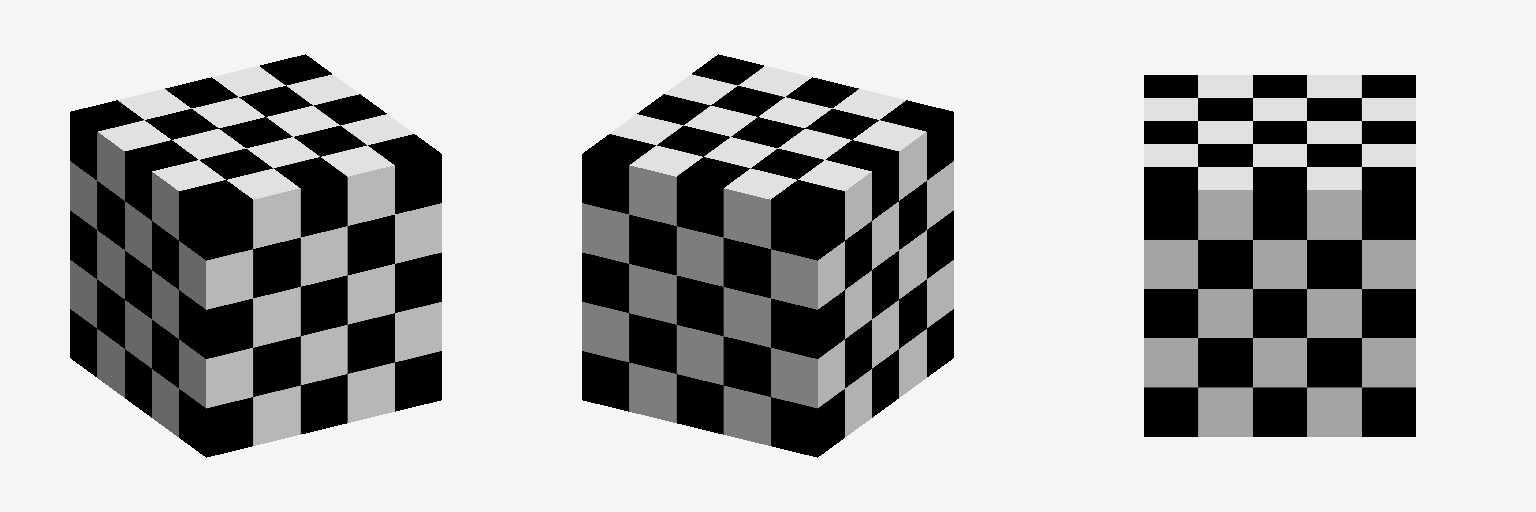
3 renders of one model, left to right at view 1: azimuth 30°, elevation 25°; view 2: azimuth 150°, elevation 25°; view 3: azimuth 270°, elevation 25°, orthographic.
Visible parts, largest first — view 1: cube; view 2: cube; view 3: cube.
Boxes of the visible parts, x1=… form: cube: x1=70, y1=54, x2=441, y2=457; cube: x1=582, y1=54, x2=953, y2=457; cube: x1=1144, y1=75, x2=1415, y2=436.
Size of the model in its own units: 1 by 1 by 1.
1 materials, 1 textured.